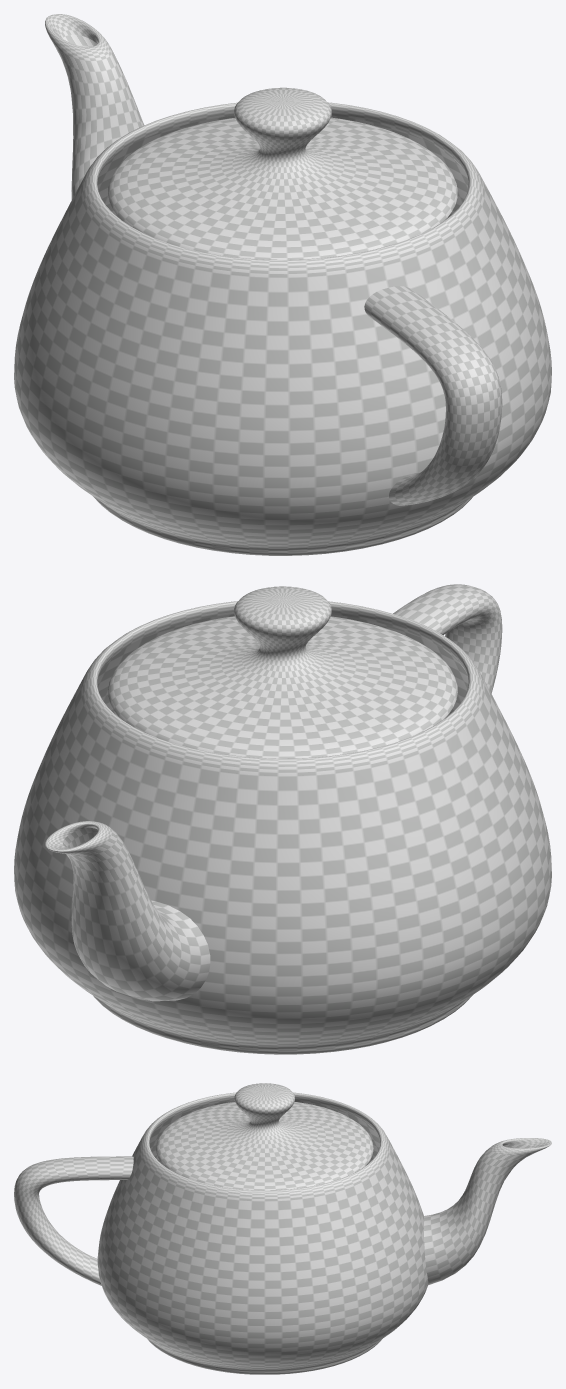
The model's file is teapot_bump.obj.
3 renders of one model, top to bottom at view 1: azimuth 30°, elevation 25°; view 2: azimuth 150°, elevation 25°; view 3: azimuth 270°, elevation 25°, orthographic. The views are drawn at different scales.
Parts seen in each view (by area): view 1: obj1; view 2: obj1; view 3: obj1.
Part boxes in pixels (bbox=[...]): obj1: bbox=[14, 14, 551, 555]; obj1: bbox=[14, 584, 551, 1054]; obj1: bbox=[14, 1083, 551, 1374].
Bounding box in the file's own units: 0.9991 × 0.7875 × 1.61.
Materials: 1 (1 with a texture image).
